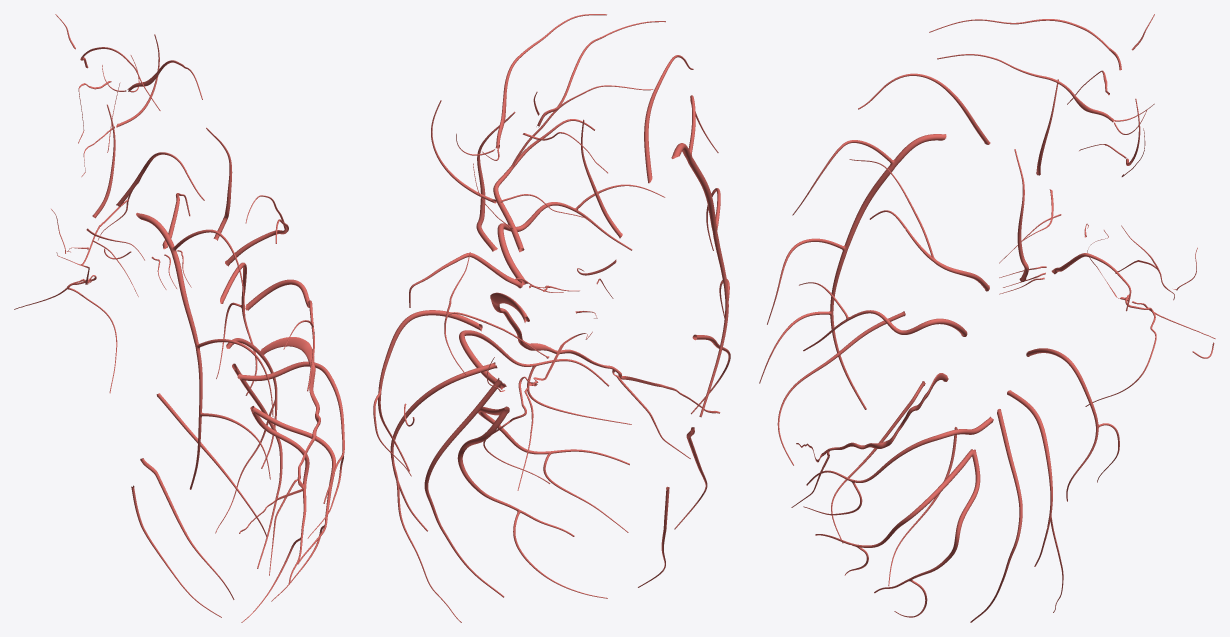
3 views of the same model, side by side, from view 1: azimuth 30°, elevation 25°; view 2: azimuth 150°, elevation 25°; view 3: azimuth 270°, elevation 25° (orthographic). The views are drawn at different scales.
Visible parts, largest first — view 1: Callosomarginal right, Central right, Anterior parietal right, Posterior parietal right, Angular right, Precentral right, Temporo-occipital right, Paracentral right, Middle temporal right, Precuneal right, Posterior temporal right; view 2: Callosomarginal right, Central right, Temporo-occipital right, Middle temporal right, Precentral right, Anterior parietal right, Posterior temporal right, Angular right, Prefrontal right, Posterior parietal right, ACA frontopolar right, MCA orbitofrontal right (+2 smaller); view 3: Callosomarginal right, Anterior parietal right, Temporo-occipital right, Posterior parietal right, Angular right, Precentral right, Central right, Posterior temporal right, Middle temporal right, Paracentral right.
Boxes of the visible parts, box(x1,y1,x2,y2) form: Callosomarginal right: box(136, 212, 202, 489); Central right: box(239, 337, 320, 533); Anterior parietal right: box(237, 361, 344, 503); Posterior parietal right: box(252, 406, 335, 564); Angular right: box(250, 406, 309, 583); Precentral right: box(245, 279, 314, 391); Temporo-occipital right: box(232, 363, 282, 568); Paracentral right: box(156, 393, 266, 536); Middle temporal right: box(220, 262, 257, 395); Precuneal right: box(140, 458, 234, 599); Posterior temporal right: box(226, 338, 277, 468); Callosomarginal right: box(671, 143, 728, 417); Central right: box(490, 292, 720, 413); Temporo-occipital right: box(424, 378, 504, 597); Middle temporal right: box(378, 310, 482, 471); Precentral right: box(497, 202, 632, 286); Anterior parietal right: box(459, 330, 609, 389); Posterior temporal right: box(390, 362, 497, 531); Angular right: box(457, 407, 574, 536); Prefrontal right: box(493, 119, 594, 252); Posterior parietal right: box(478, 406, 629, 465); ACA frontopolar right: box(644, 55, 693, 183); MCA orbitofrontal right: box(476, 111, 515, 251); Callosomarginal right: box(830, 134, 946, 409); Anterior parietal right: box(806, 416, 993, 485); Temporo-occipital right: box(970, 409, 1022, 622); Posterior parietal right: box(815, 449, 973, 547); Angular right: box(874, 449, 980, 593); Precentral right: box(803, 310, 967, 351); Central right: box(796, 373, 948, 462); Posterior temporal right: box(1007, 390, 1052, 566); Middle temporal right: box(1026, 348, 1098, 501); Paracentral right: box(777, 311, 905, 465).
Bounding box in the file's own units: 63.19 × 164 × 120.
